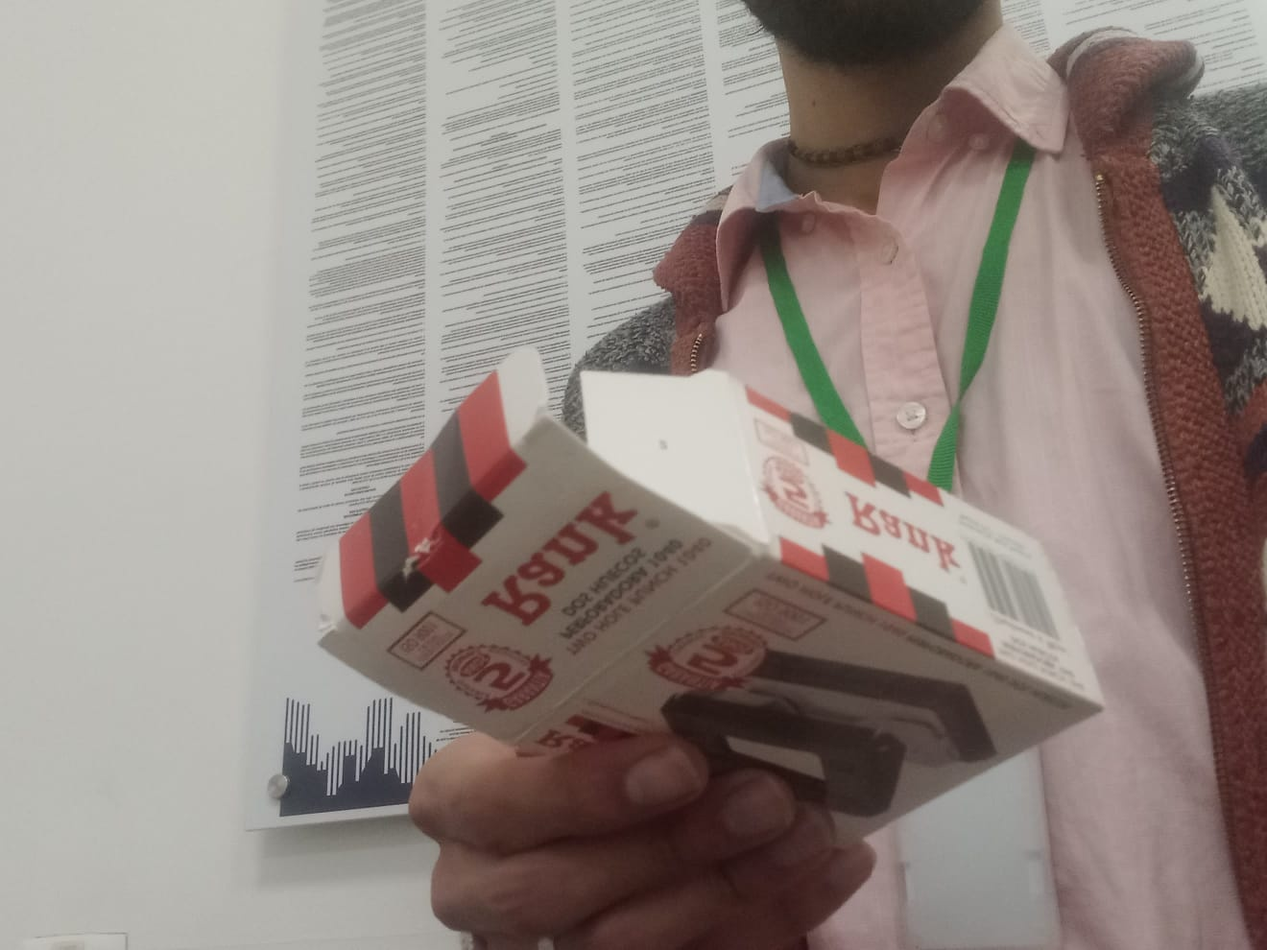Carton: (321, 346, 1105, 851)
